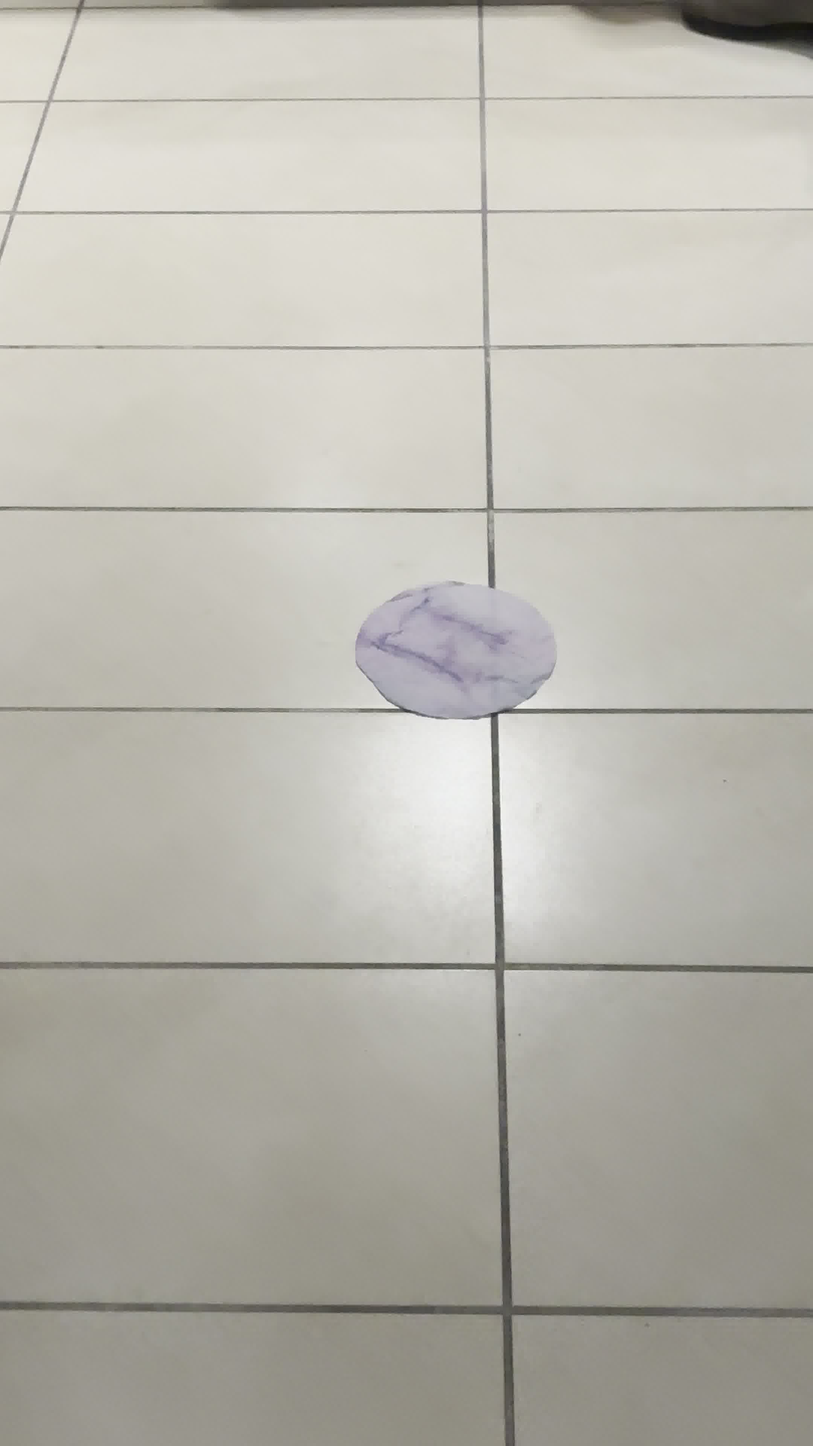Target: (355, 581, 556, 720)
